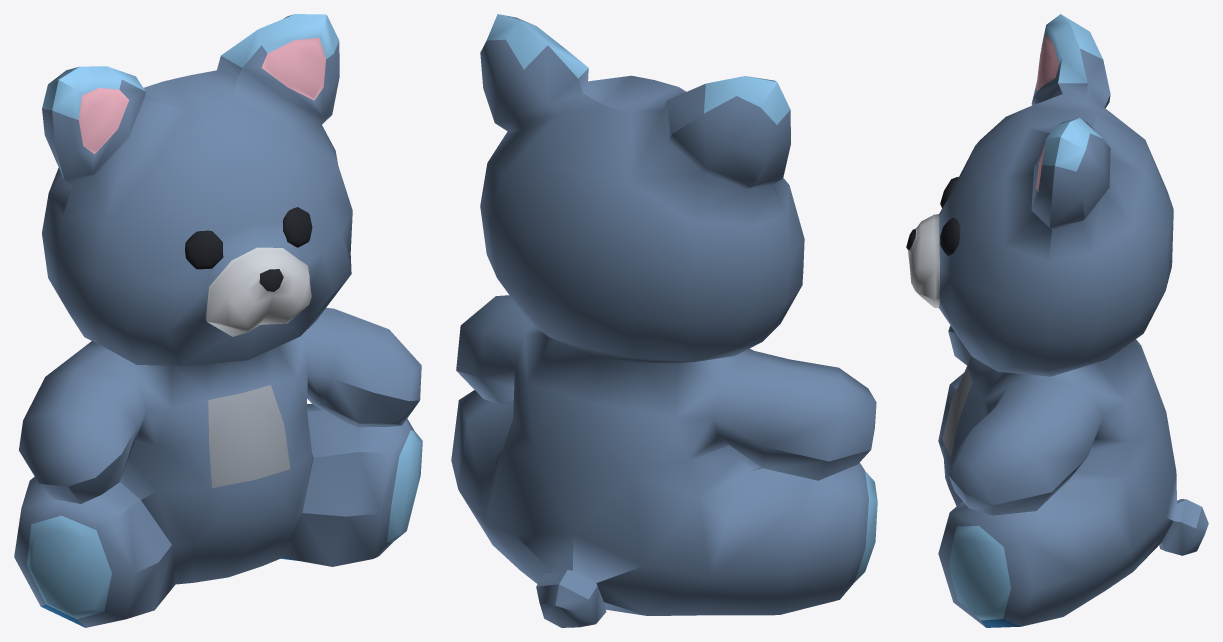
File: pelucia_gato_pacote.glb
3 views of the same model, side by side, from view 1: azimuth 30°, elevation 25°; view 2: azimuth 150°, elevation 25°; view 3: azimuth 270°, elevation 25° (orthographic). The views are drawn at different scales.
Visible parts, largest first — view 1: pelucia_gato_pacote; view 2: pelucia_gato_pacote; view 3: pelucia_gato_pacote.
Boxes of the visible parts, <box> form: pelucia_gato_pacote: <box>14,14,422,627</box>; pelucia_gato_pacote: <box>451,14,877,627</box>; pelucia_gato_pacote: <box>906,14,1208,627</box>.
Size of the model in its own units: 0.3281 by 0.427 by 0.2355.
1 material, 1 textured.
